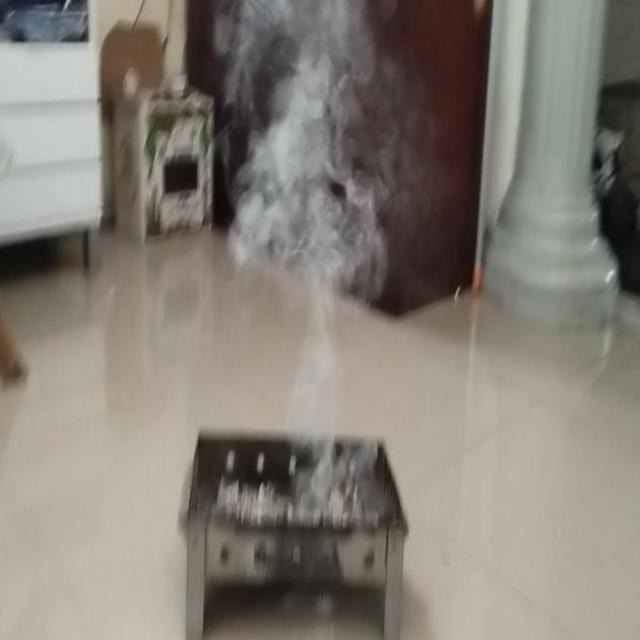fire: (218, 0, 386, 313)
